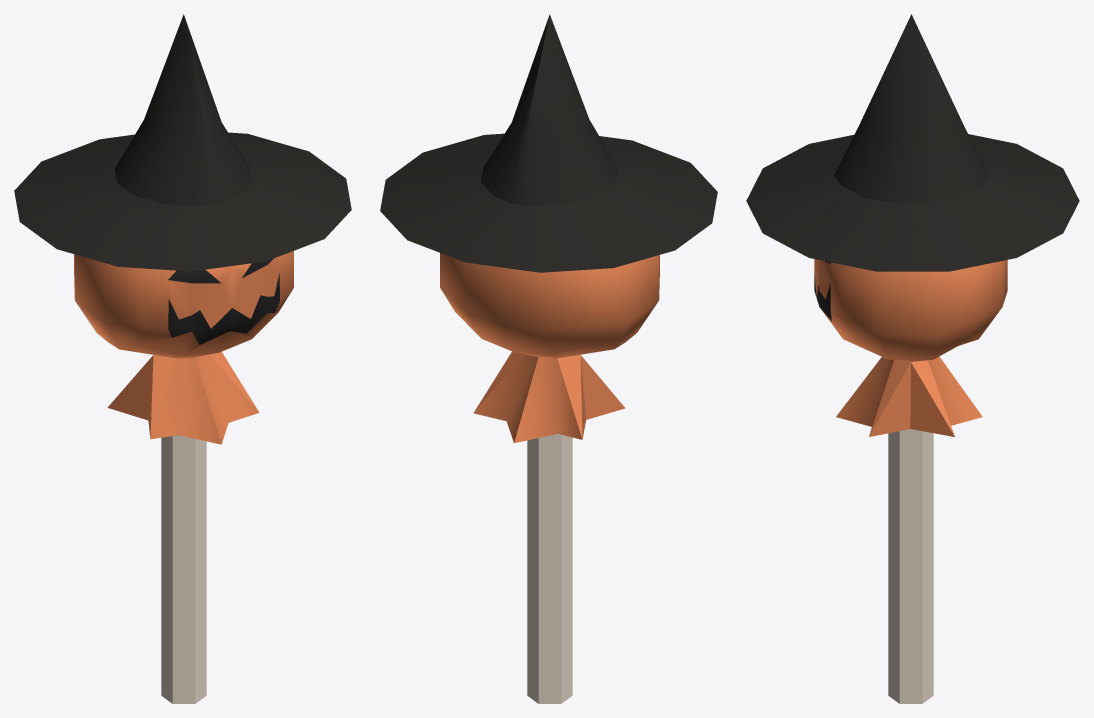
File: lollipop.fbx
3 views of the same model, side by side, from view 1: azimuth 30°, elevation 25°; view 2: azimuth 150°, elevation 25°; view 3: azimuth 270°, elevation 25° (orthographic).
Parts seen in each view (by area): view 1: lollipop.001; view 2: lollipop.001; view 3: lollipop.001.
Part boxes in pixels (x1,y1,x2,y2): lollipop.001: (14, 14, 351, 703); lollipop.001: (380, 14, 717, 703); lollipop.001: (746, 14, 1079, 703).
Bounding box in the file's own units: 217 × 489 × 217.
